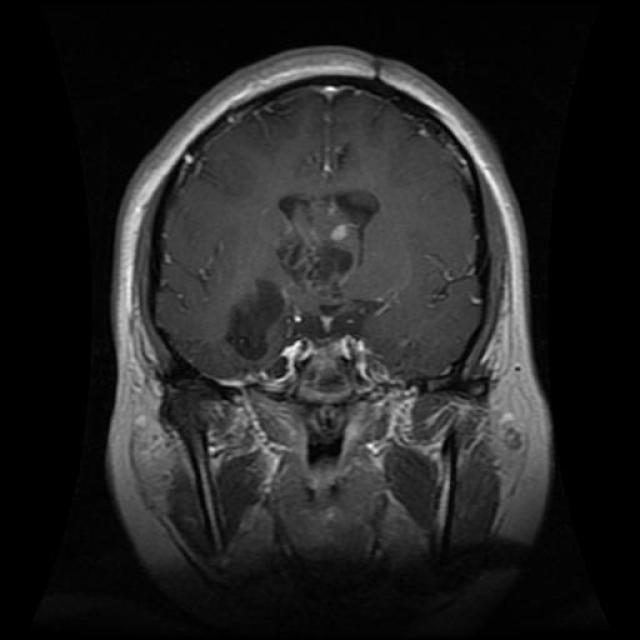glioma: (274, 191, 382, 291)
